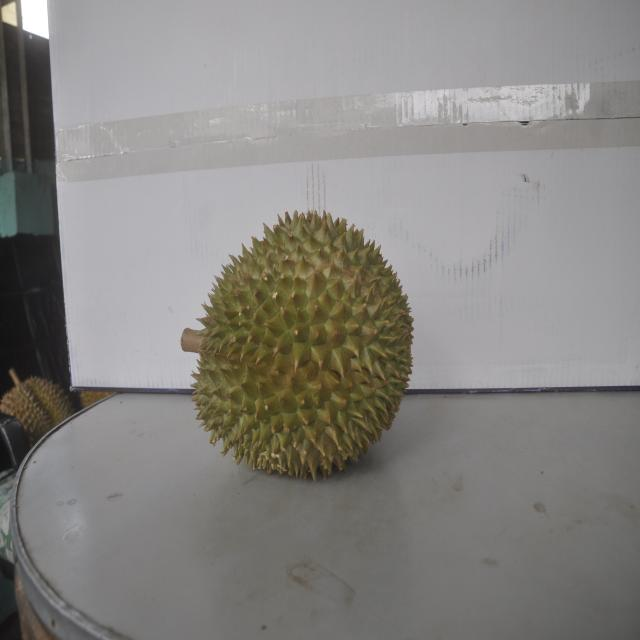mature: (191, 204, 416, 482), (0, 373, 74, 447)
